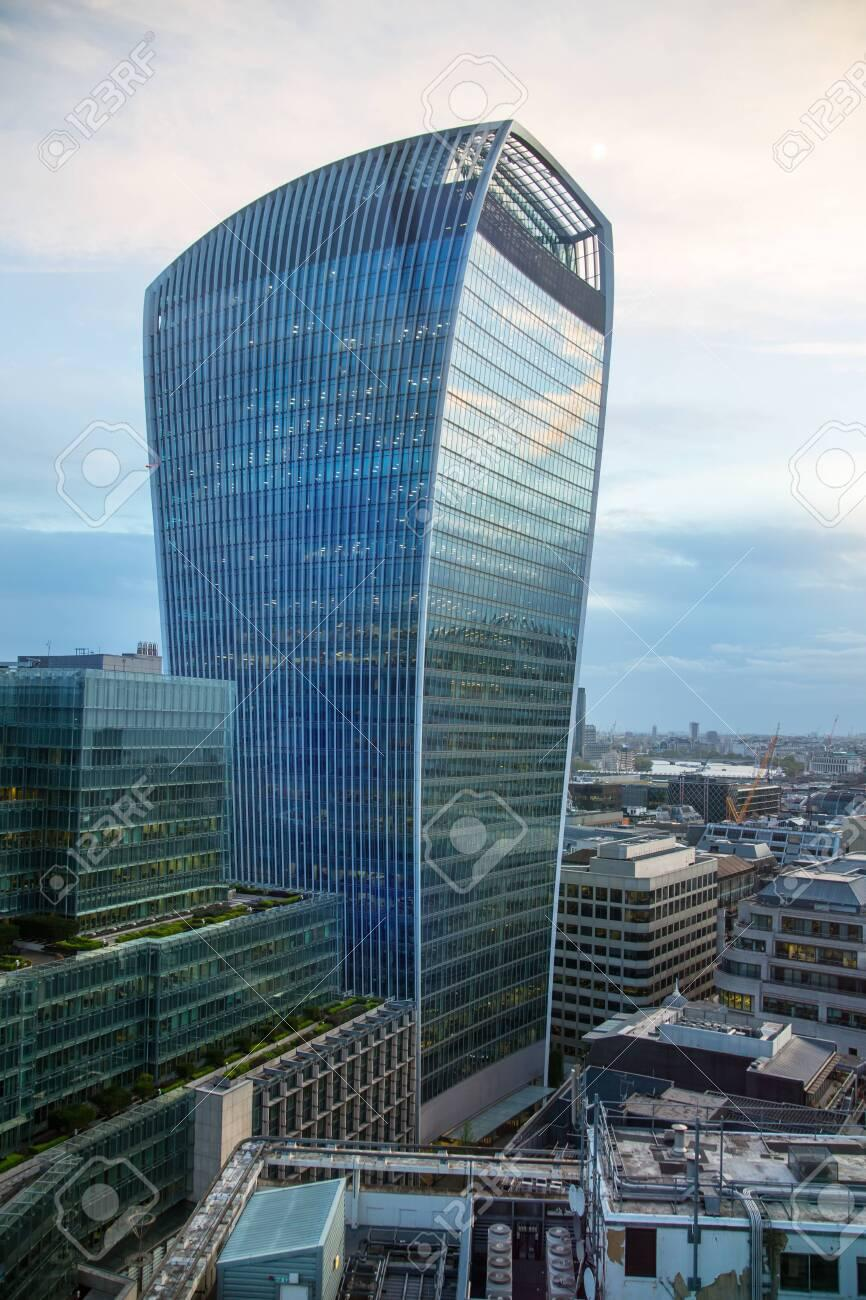Walkie talkie: (118, 102, 638, 1032)
